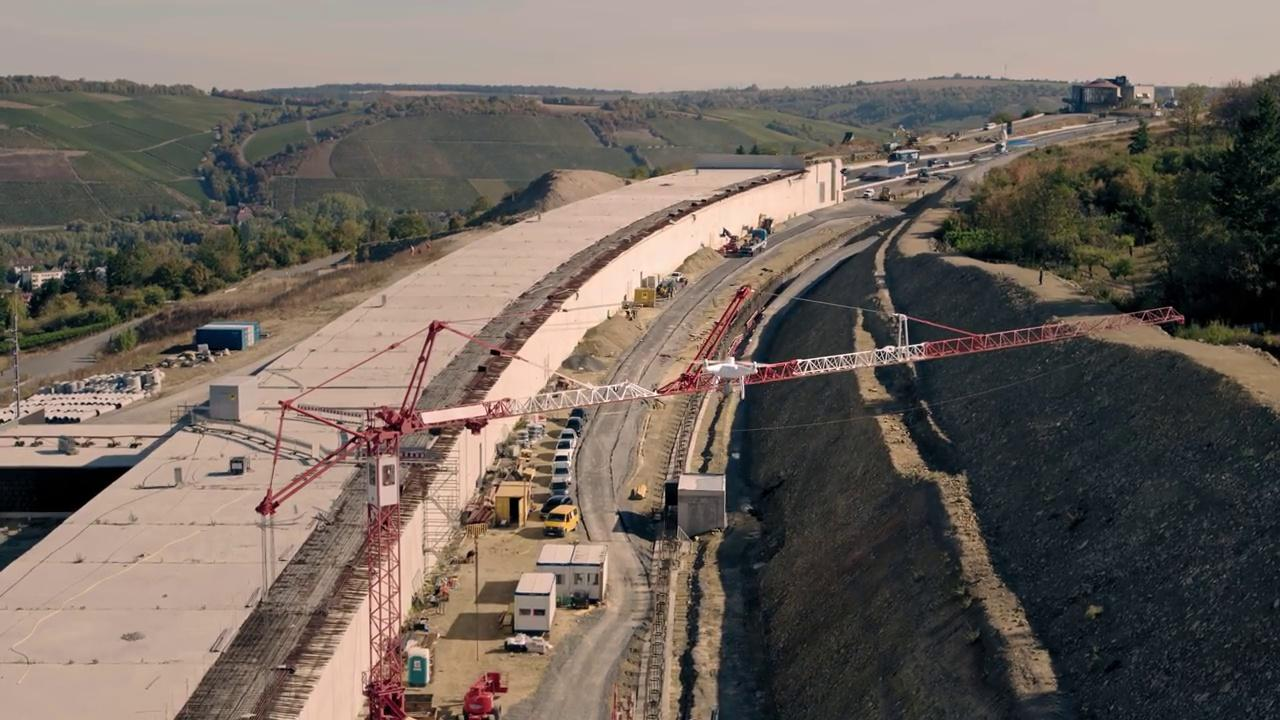drone: (682, 352, 776, 398)
